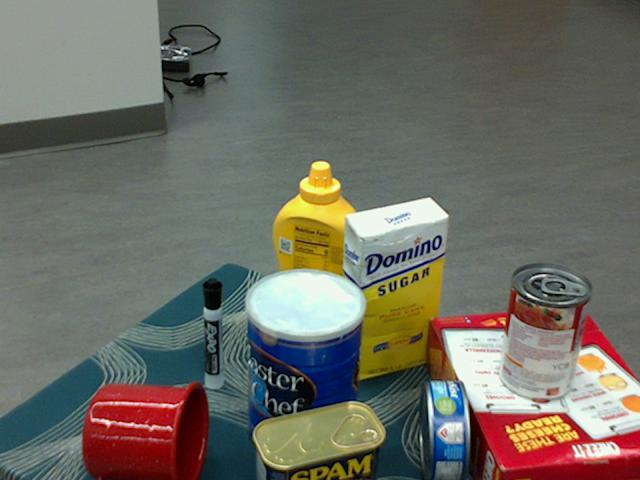cracker_box: (423, 308, 639, 479)
large_marker: (202, 277, 221, 389)
master_chef_can: (246, 269, 366, 464)
mug: (81, 381, 208, 479)
mustard_bottle: (271, 161, 364, 343)
potted_meat_can: (252, 401, 385, 479)
sugar_box: (337, 199, 449, 382)
tomato_soup_can: (497, 265, 590, 402)
tuna_fish_can: (420, 380, 470, 479)
